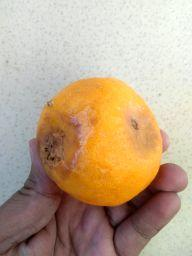Unripe: (35, 76, 162, 211)
